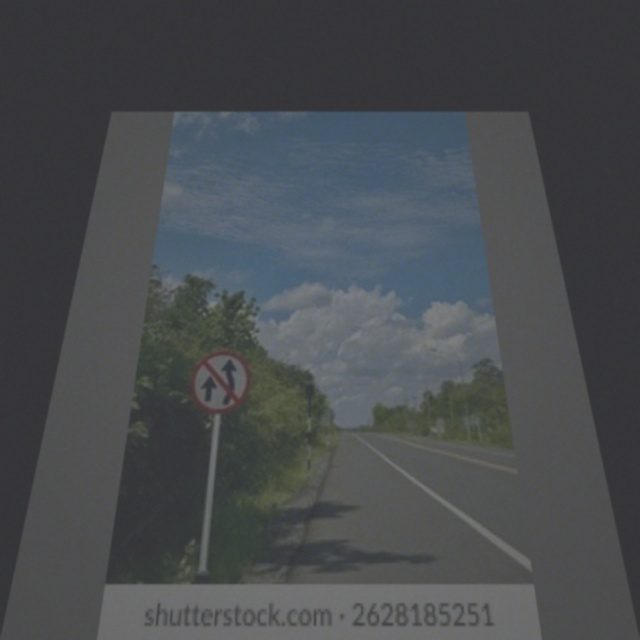Overtaking_Prohibited: (185, 352, 251, 413)
